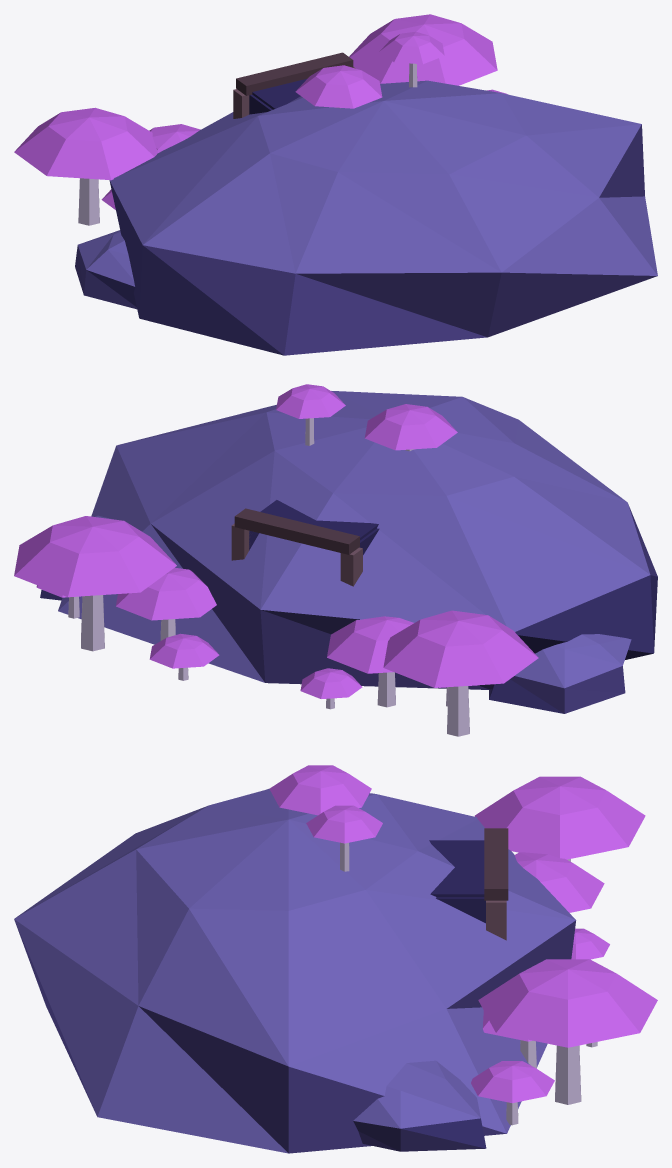
The model's file is Mine_Door_Mushroom.obj.
3 renders of one model, top to bottom at view 1: azimuth 30°, elevation 25°; view 2: azimuth 150°, elevation 25°; view 3: azimuth 270°, elevation 25°, orthographic. The views are drawn at different scales.
Visible parts, largest first — view 1: Mine_Door_Mushroom; view 2: Mine_Door_Mushroom; view 3: Mine_Door_Mushroom.
Part boxes in pixels (x1,y1,x2,y2): Mine_Door_Mushroom: (14,14,657,355); Mine_Door_Mushroom: (14,384,657,736); Mine_Door_Mushroom: (14,765,657,1153).
Size of the model in its own units: 8.87 by 3.23 by 8.07.
